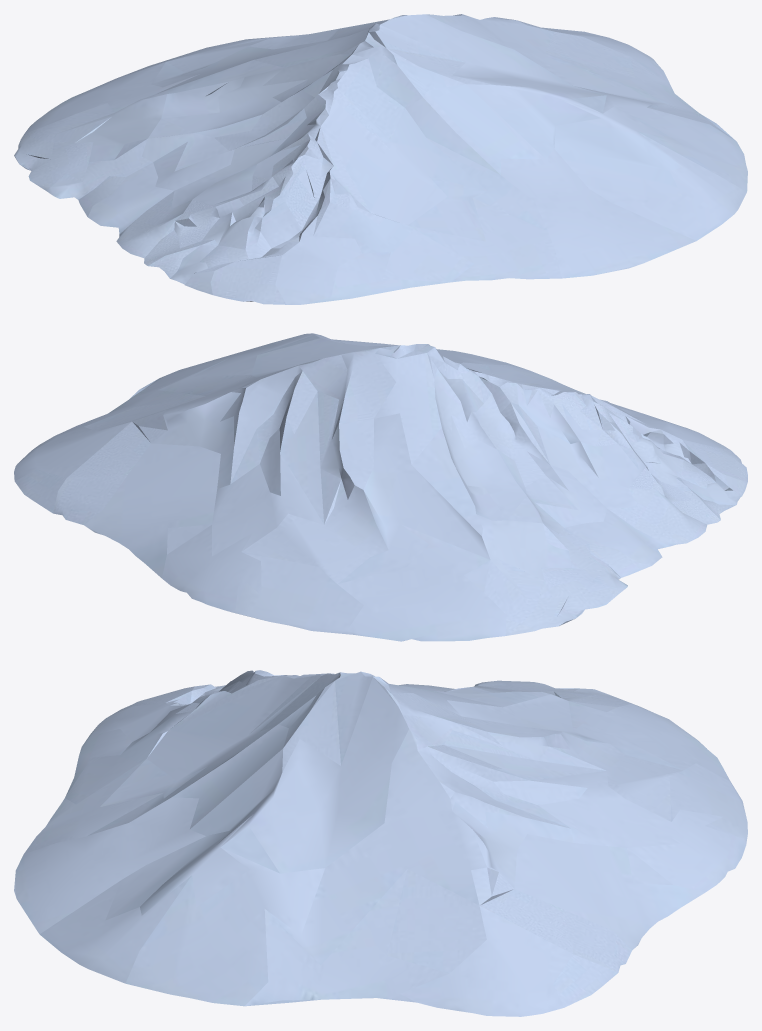
File: snow_drift.glb
The picture shows the model from 3 angles, top to bottom: view 1: azimuth 30°, elevation 25°; view 2: azimuth 150°, elevation 25°; view 3: azimuth 270°, elevation 25°; orthographic projection. The views are drawn at different scales.
Visible parts, largest first — view 1: Mesh_0; view 2: Mesh_0; view 3: Mesh_0.
Part boxes in pixels (x1,y1,x2,y2): Mesh_0: (14, 14, 747, 304); Mesh_0: (14, 333, 747, 641); Mesh_0: (14, 670, 747, 1016).
Bounding box in the file's own units: 1.89 × 0.4491 × 1.79.
1 material, 1 textured.
